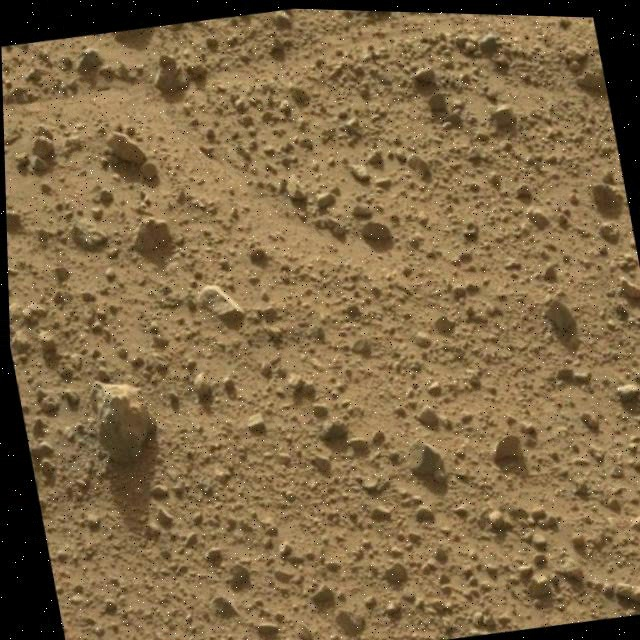rock: (441, 569, 640, 640), (89, 380, 150, 463), (309, 589, 345, 613), (336, 612, 366, 640), (523, 537, 547, 569), (383, 564, 408, 590), (430, 603, 462, 623), (226, 566, 251, 591), (281, 547, 315, 565), (215, 598, 237, 619), (466, 586, 491, 602), (385, 606, 405, 623)
